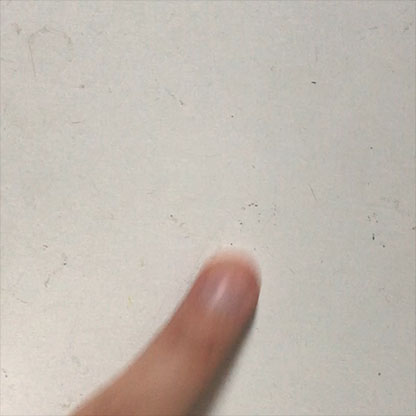fingertip: (181, 240, 276, 332)
